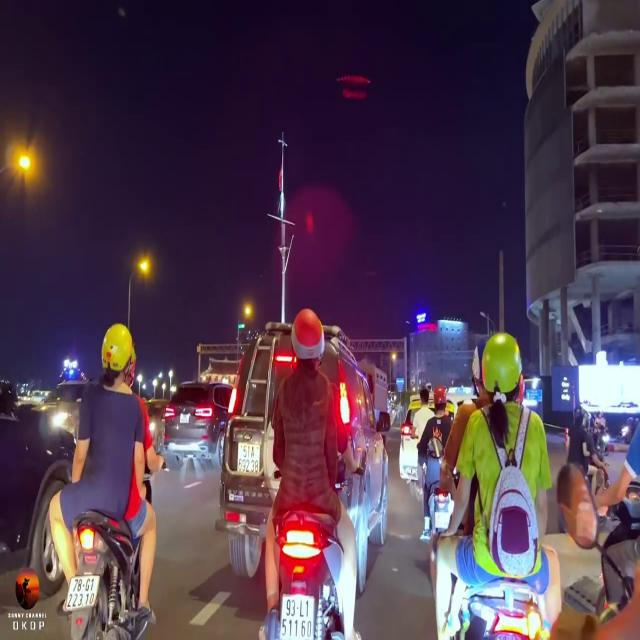bien_trang: (279, 592, 315, 640), (66, 576, 98, 610), (234, 440, 260, 474)
